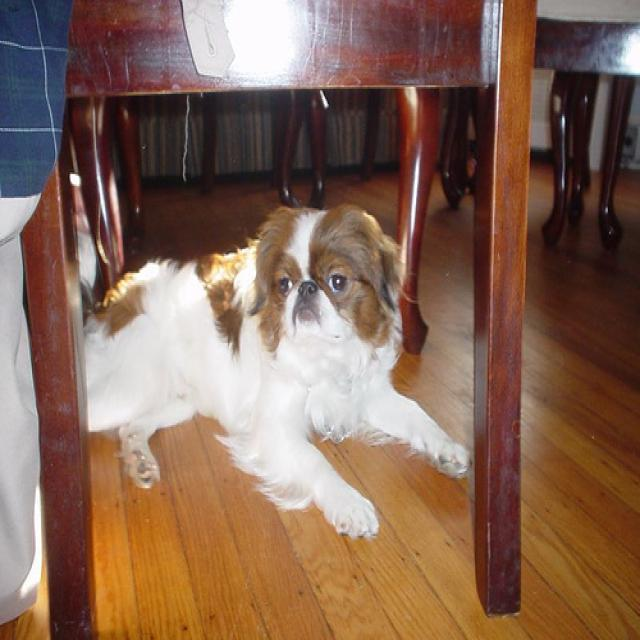dog-japanese_chin: (76, 191, 472, 546)
